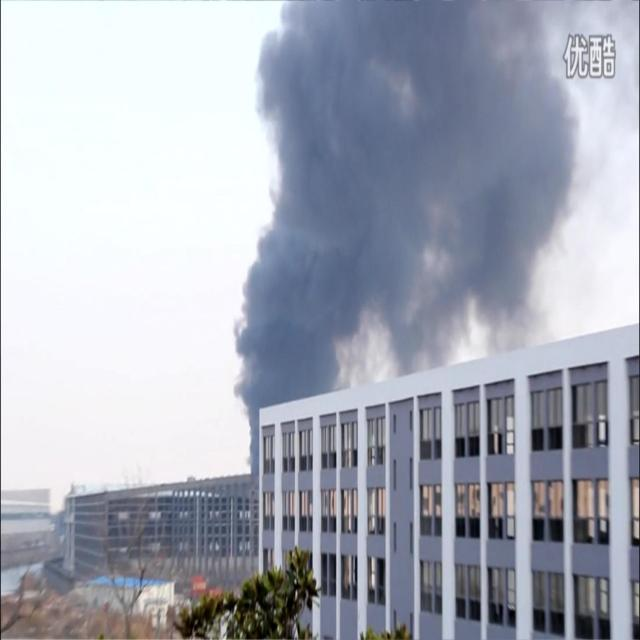Smoke: (229, 0, 640, 475)
